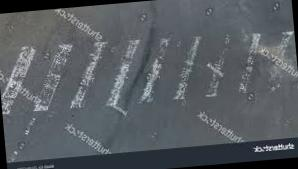faded_road_lines: (1, 45, 71, 113), (238, 30, 298, 98), (71, 45, 100, 107), (140, 37, 168, 101), (174, 35, 201, 98), (107, 53, 133, 113), (205, 55, 224, 95)
